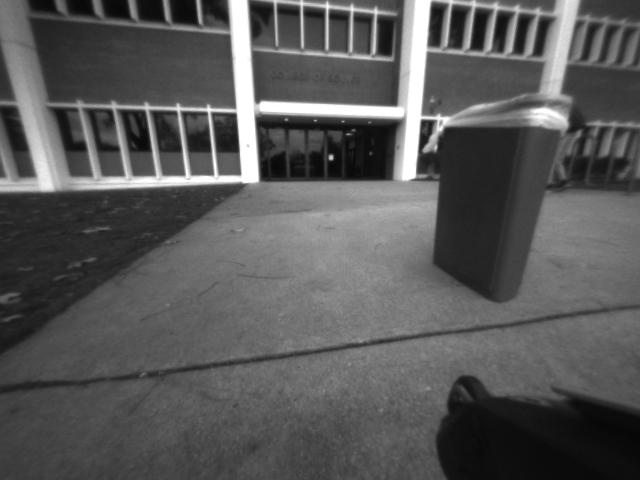trashcan: (422, 86, 582, 312)
